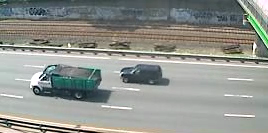car: (28, 63, 106, 101), (119, 63, 165, 87)
